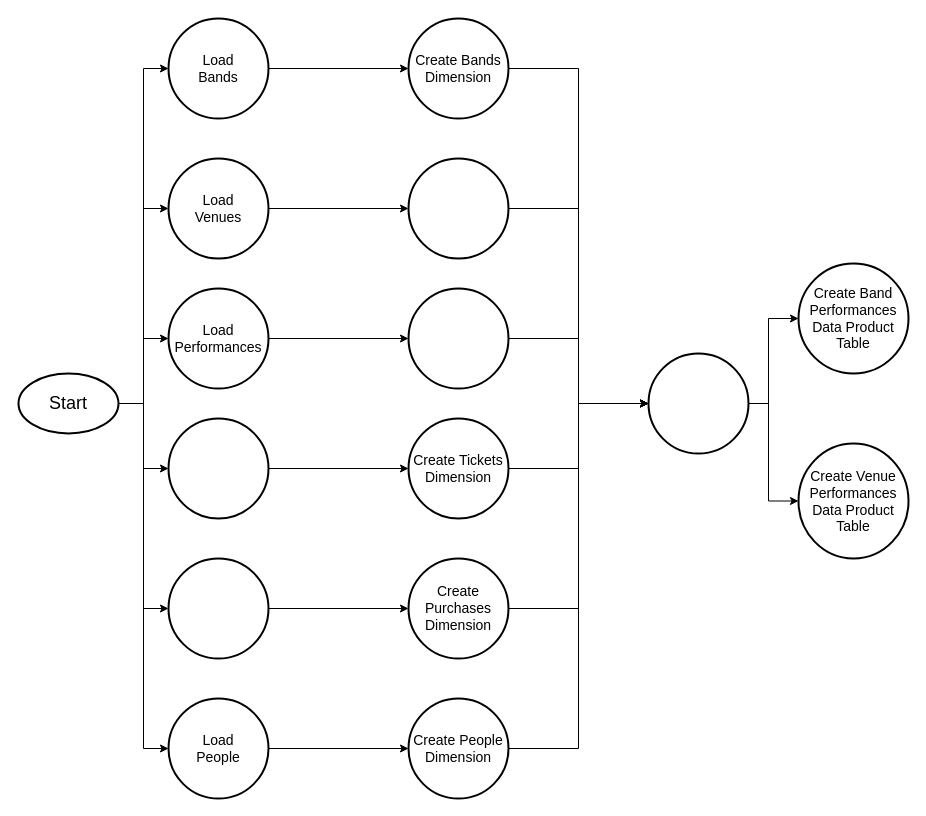
This 926x816 diagram has some shape labels left out. The centre of each missing label's shape, as x and y in pixels:
Create Band Performances Fact Table: (x=698, y=403)
Create Performances Dimension: (x=458, y=338)
Create Venues Dimension: (x=458, y=208)
Load Purchases: (x=218, y=608)
Load Tickets: (x=218, y=468)
